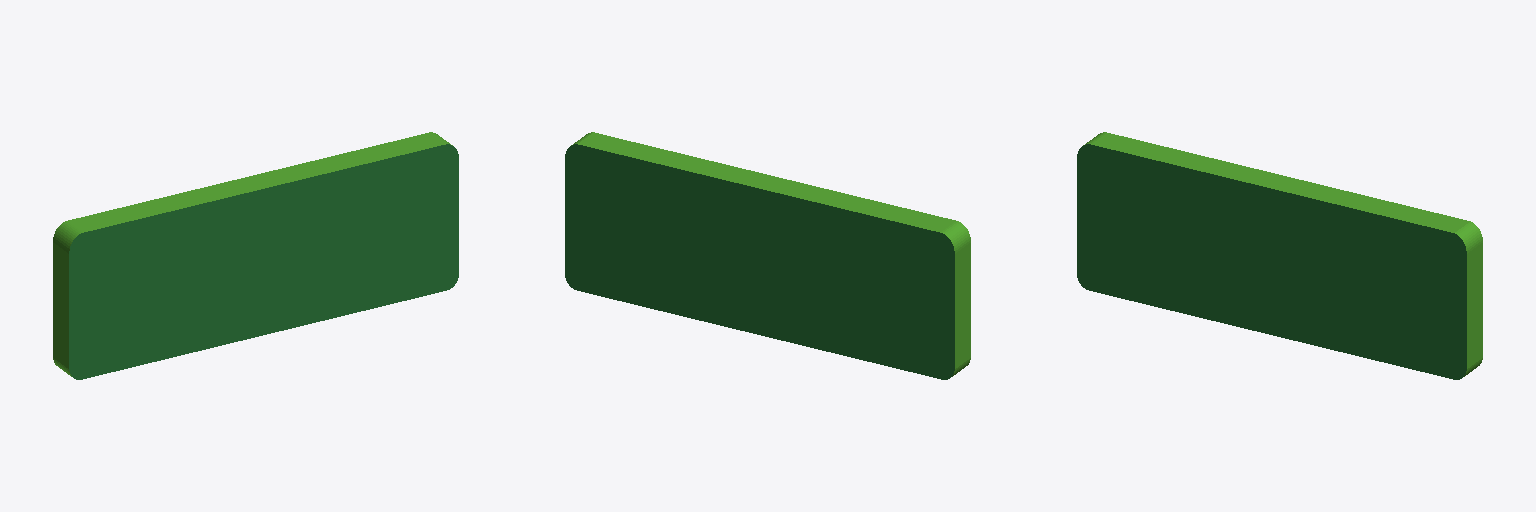
File: BSL.obj
The picture shows the model from 3 angles: view 1: azimuth 30°, elevation 25°; view 2: azimuth 150°, elevation 25°; view 3: azimuth 330°, elevation 25°; orthographic projection.
Parts seen in each view (by area): view 1: Mesh1 Group1 Model; view 2: Mesh1 Group1 Model; view 3: Mesh1 Group1 Model.
Boxes of the visible parts, x1,y1,x2,y2 form: Mesh1 Group1 Model: [53, 132, 458, 379]; Mesh1 Group1 Model: [565, 132, 970, 379]; Mesh1 Group1 Model: [1077, 132, 1482, 379].
Size of the model in its own units: 2.33 by 0.8363 by 0.1687.